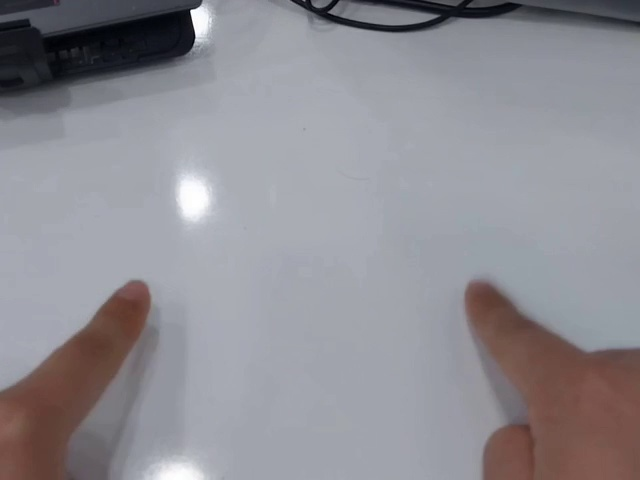fingers: (99, 278, 152, 335), (462, 278, 511, 327)
